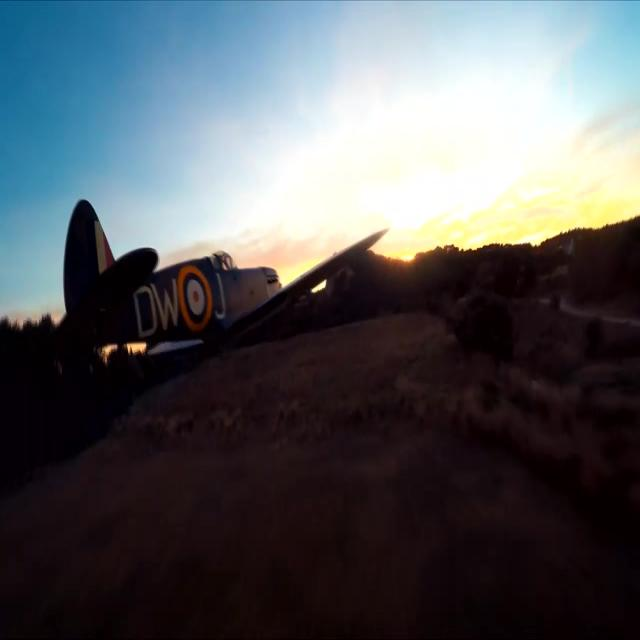iha: (58, 198, 393, 366)
